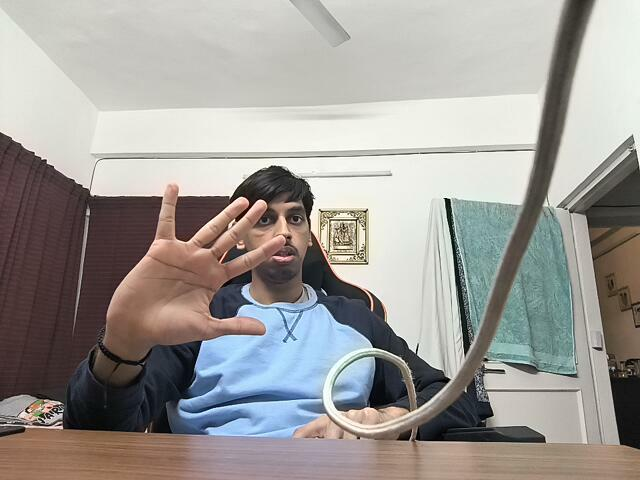STOP: (92, 179, 288, 347)
